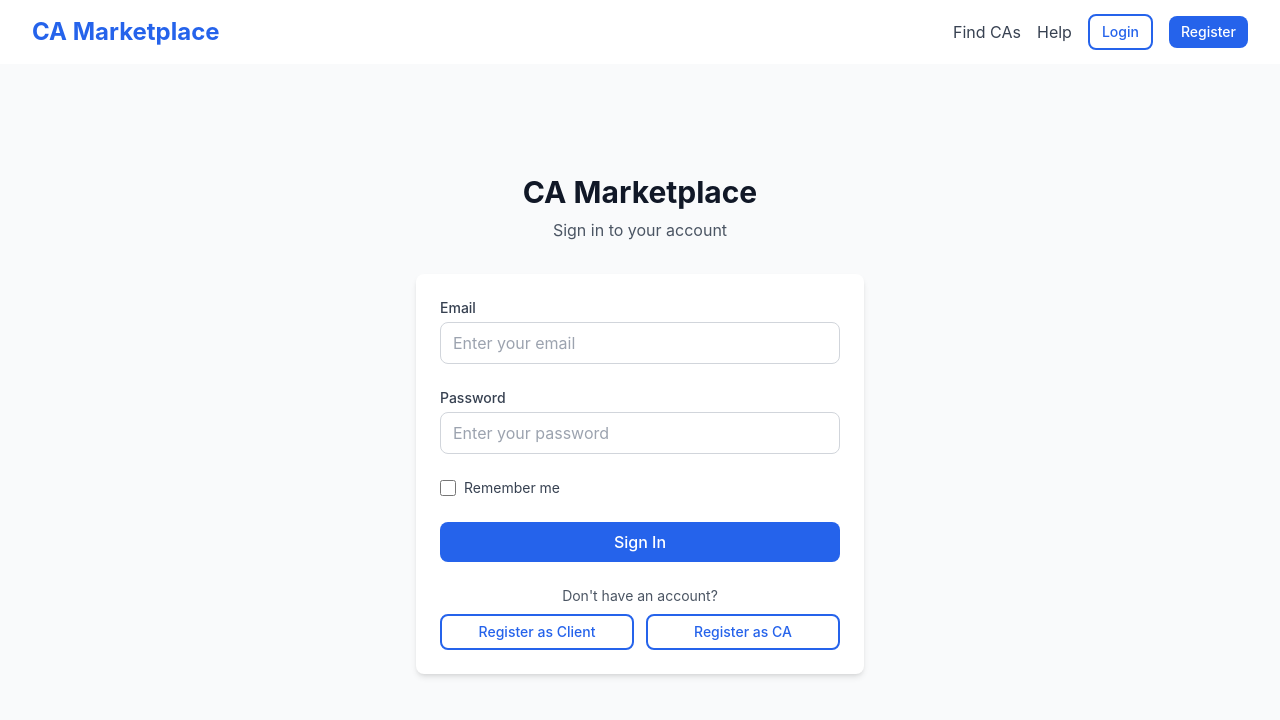
Edge Cases & Error Handling › Network Errors › should display error message on network failure
In the field named "email": {"x": 640, "y": 343} 440,322 -> 840,364, type "test@example.com"
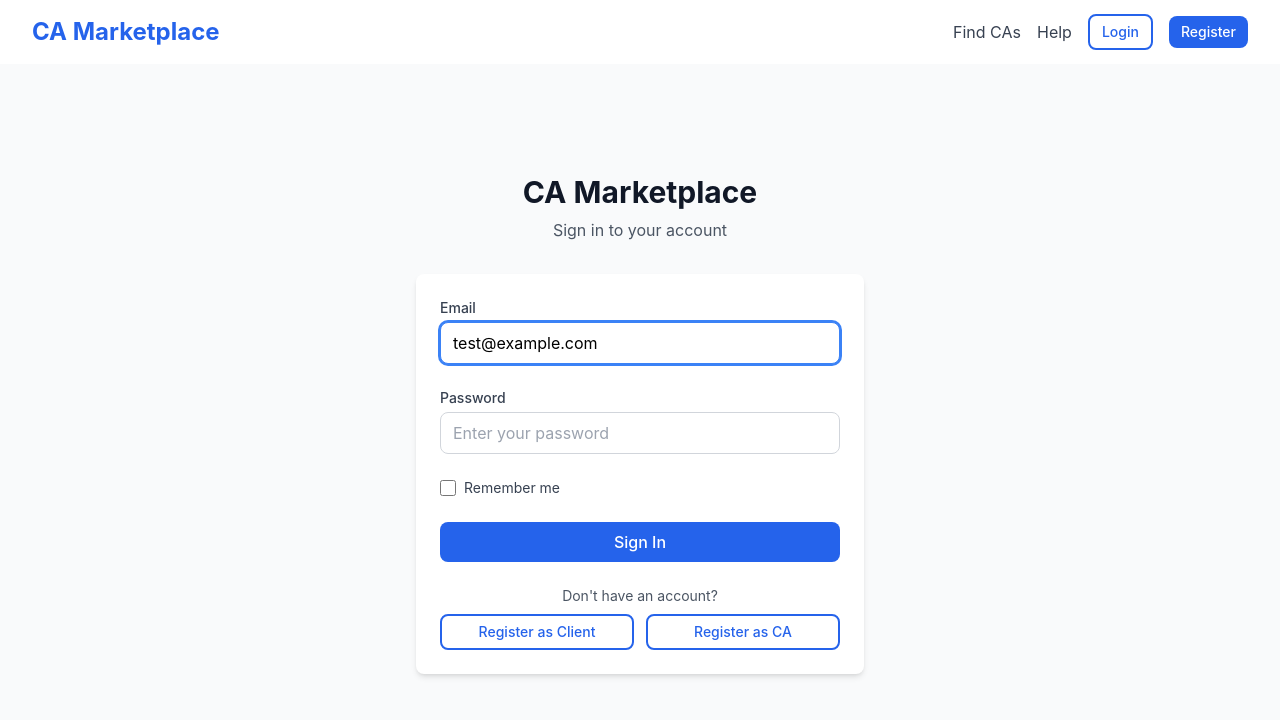
In the password field named "password": {"x": 640, "y": 433} 440,412 -> 840,454, type "password123"
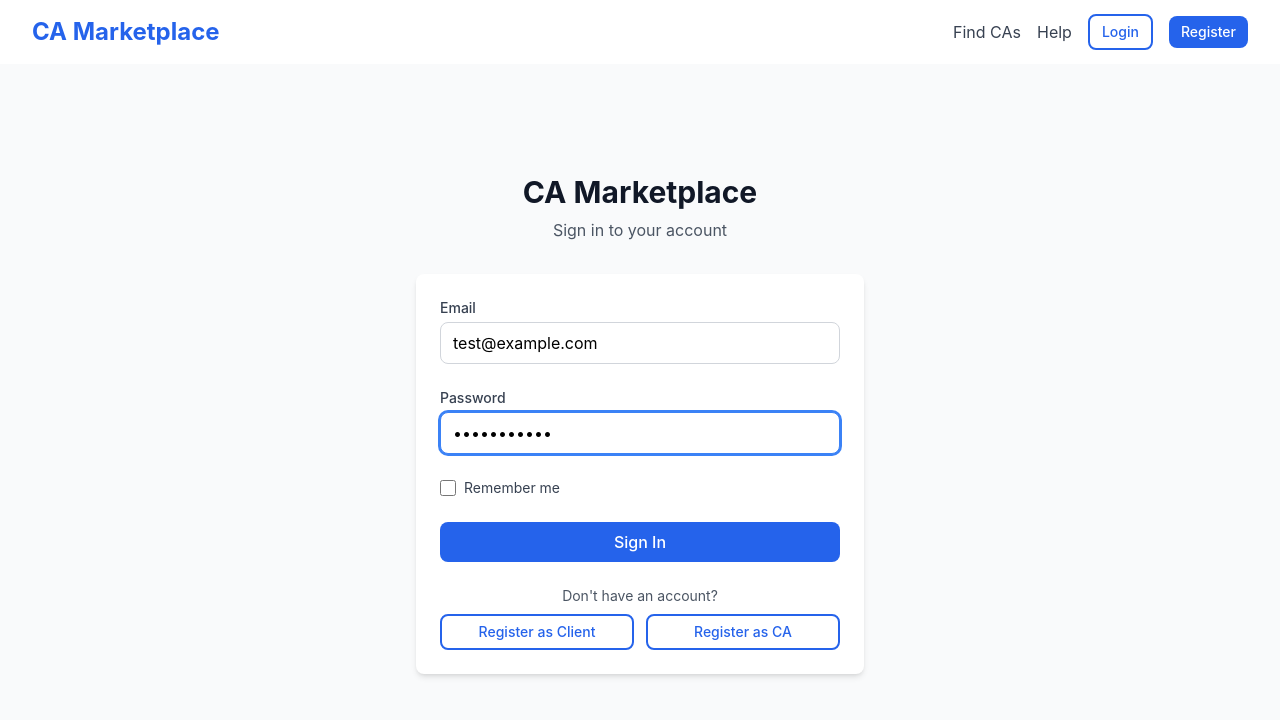
Click the submit button: {"x": 640, "y": 542} 440,522 -> 840,562
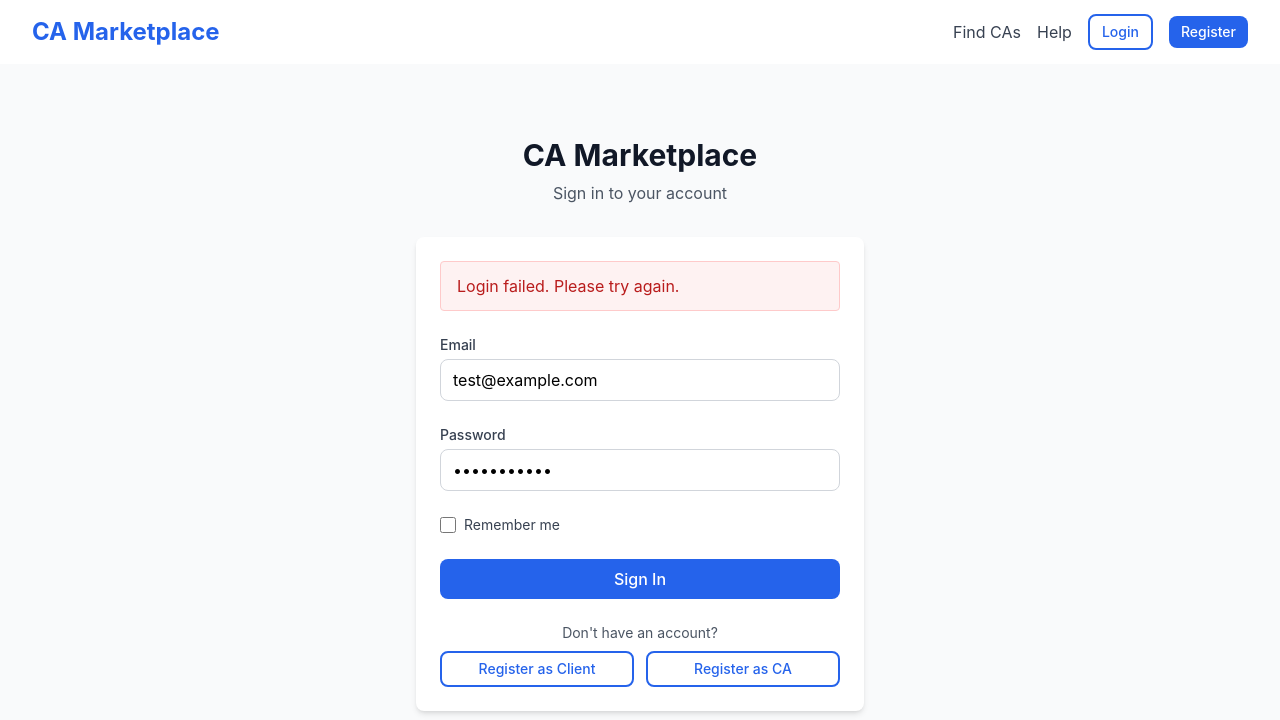
Now the text "Login failed. Please try again." is shown, box 440,261 -> 840,311
